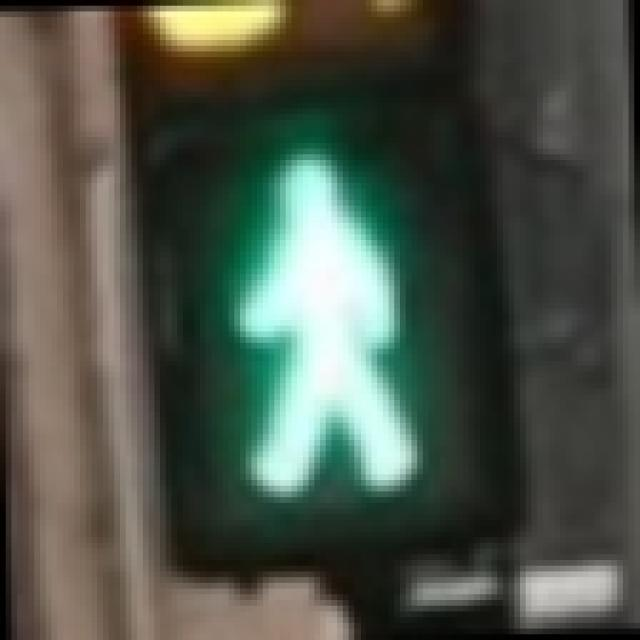green-light: (133, 93, 498, 539)
